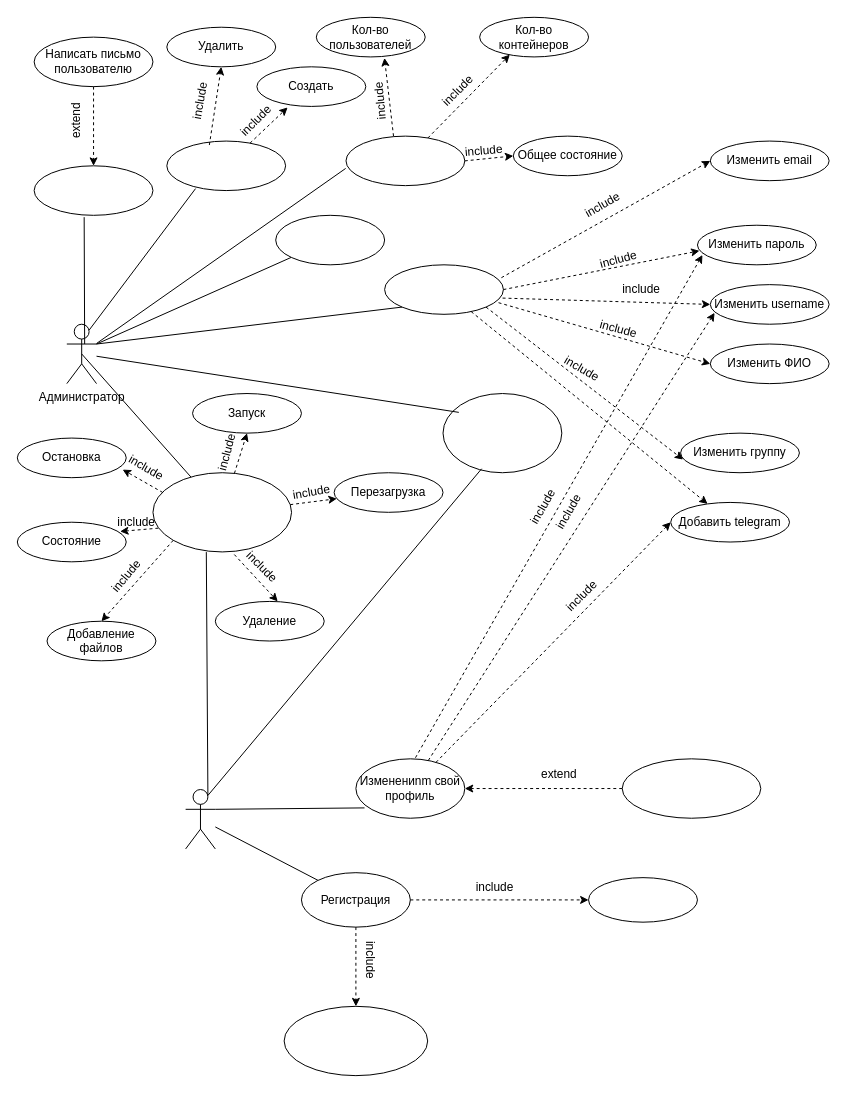
The diagram is 846 pixels wide and 1093 high, and some of its shapes have lost their labels. Each missing label, with the centre of its shape:
"Вход в аккаунт" belongs at [502,433].
"Заблокировать пользователя" belongs at [93,190].
"Запрос на изменение данных администратору" belongs at [691,788].
"Изменить профиль" belongs at [443,289].
"Подтверждение регистрации" belongs at [330,239].
"Получить письмо с подтверждением/отказом в регистрации" belongs at [355,1040].
"Пользователь" belongs at [200,819].
"Прочитать согласие" belongs at [642,899].
"Работа с контейнером" belongs at [222,512].
"Редактирование статей" belongs at [226,165].
"Статистика сервера" belongs at [405,160].
